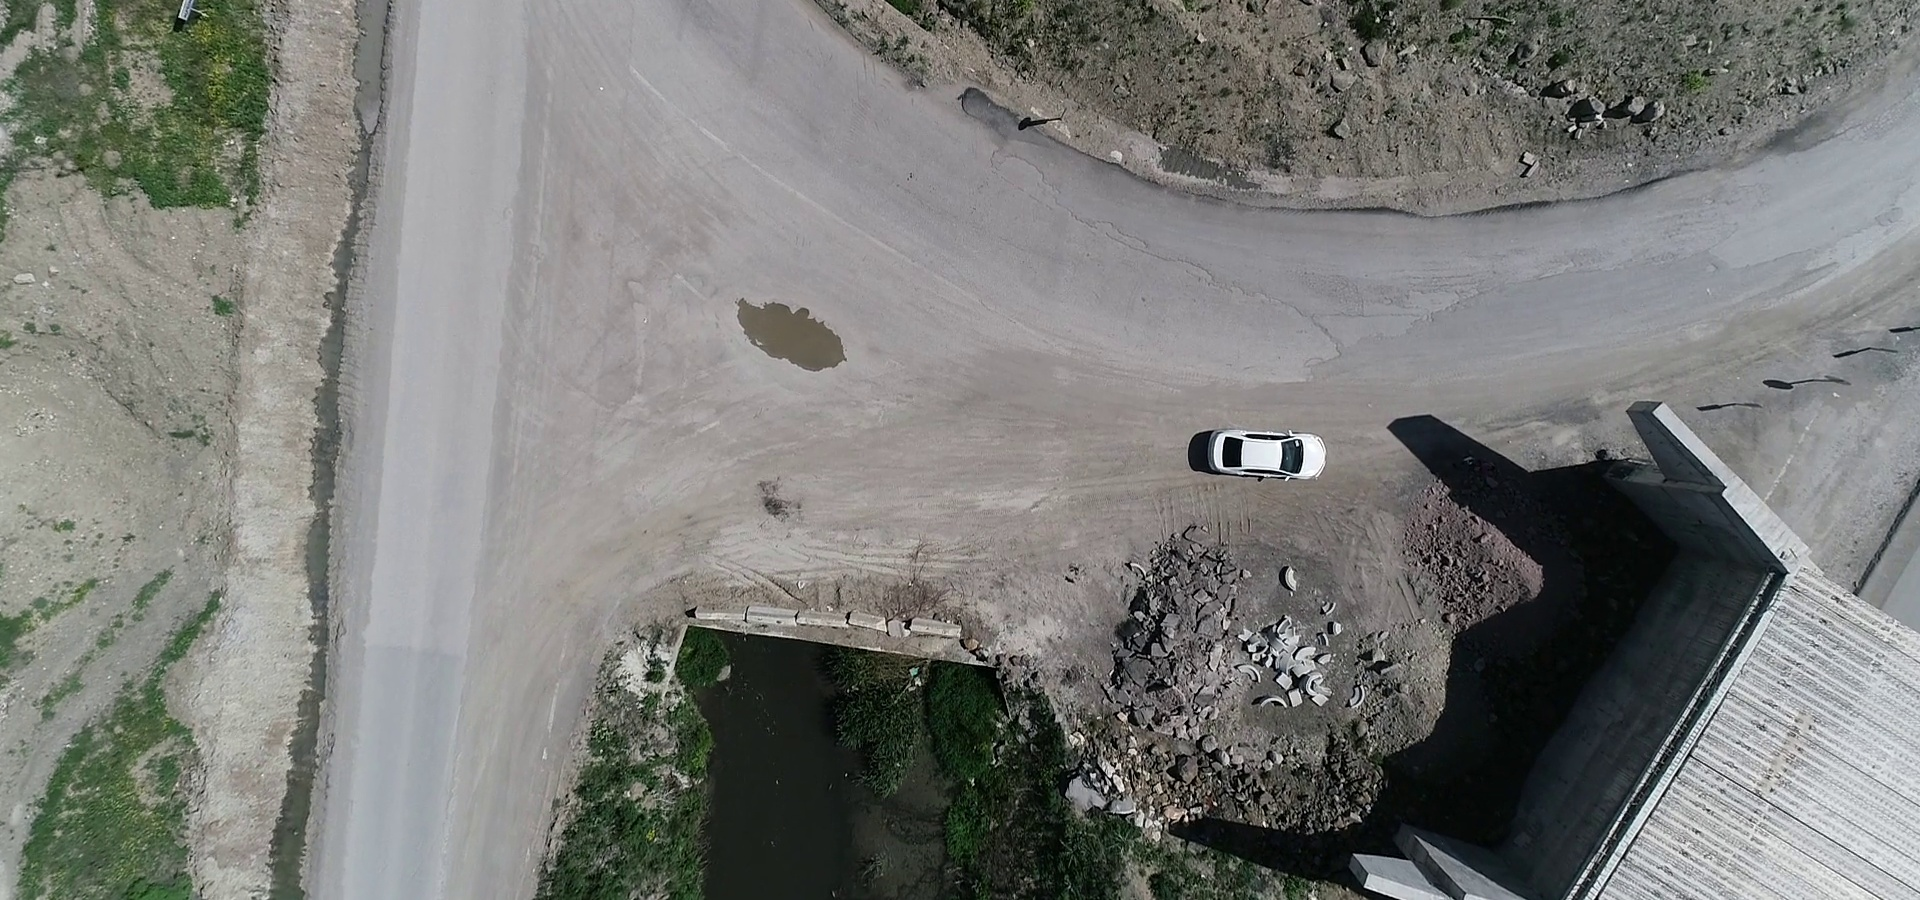arac: (1207, 415, 1329, 487)
